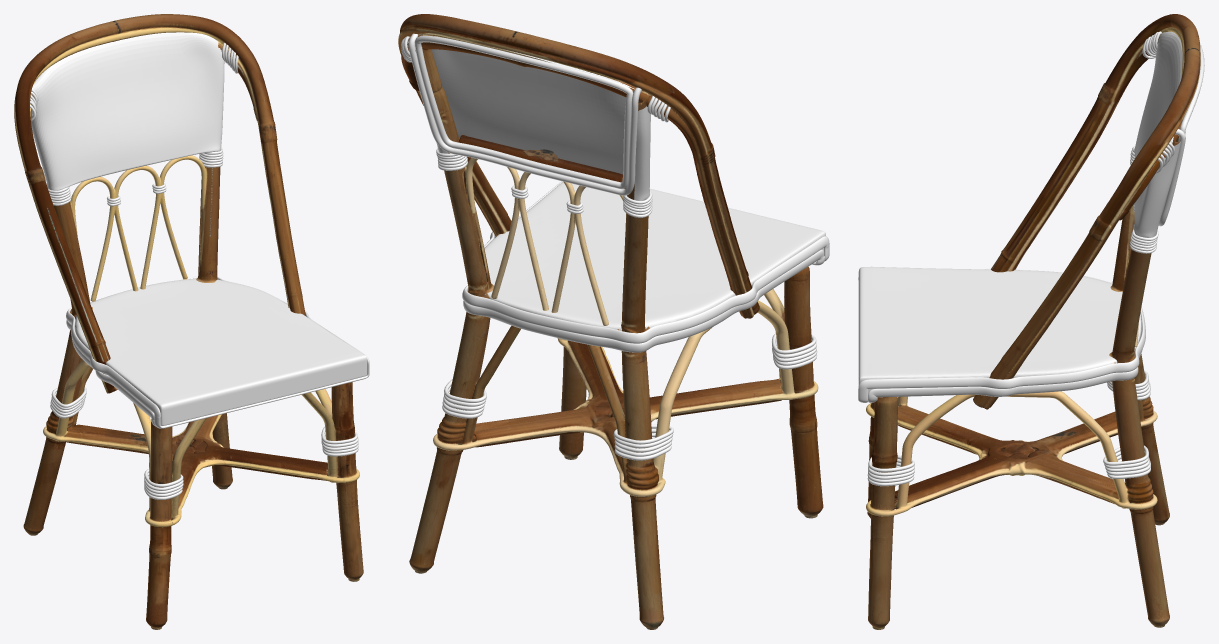
Rendered from tradition-bourdon.glb.
3 views of the same model, side by side, from view 1: azimuth 30°, elevation 25°; view 2: azimuth 150°, elevation 25°; view 3: azimuth 270°, elevation 25° (orthographic). The views are drawn at different scales.
Parts seen in each view (by area): view 1: mesh_tressage, mesh_structure, mesh_laniere; view 2: mesh_structure, mesh_tressage, mesh_laniere; view 3: mesh_structure, mesh_tressage, mesh_laniere.
Boxes of the visible parts, box(x1,y1,x2,y2) form: mesh_tressage: box(31, 32, 367, 425); mesh_structure: box(14, 14, 363, 629); mesh_laniere: box(30, 42, 369, 499); mesh_structure: box(398, 14, 823, 629); mesh_tressage: box(407, 34, 825, 330); mesh_laniere: box(401, 33, 829, 460); mesh_structure: box(866, 14, 1200, 629); mesh_tressage: box(858, 31, 1200, 392); mesh_laniere: box(858, 31, 1204, 486).
Size of the model in its own units: 0.4826 by 0.9002 by 0.5359.
Materials: 3 (1 with a texture image).
